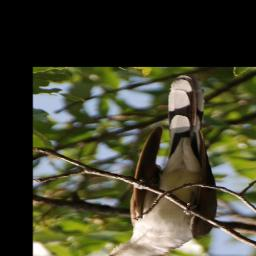Cuckoo: (90, 73, 221, 256)
